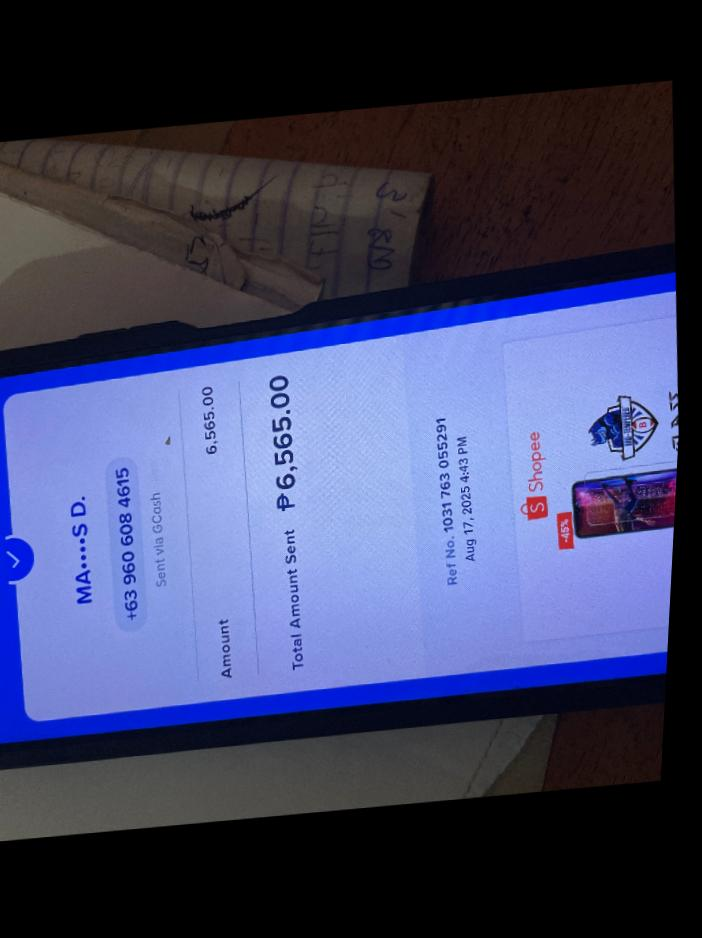Receipt: (0, 272, 678, 739)
